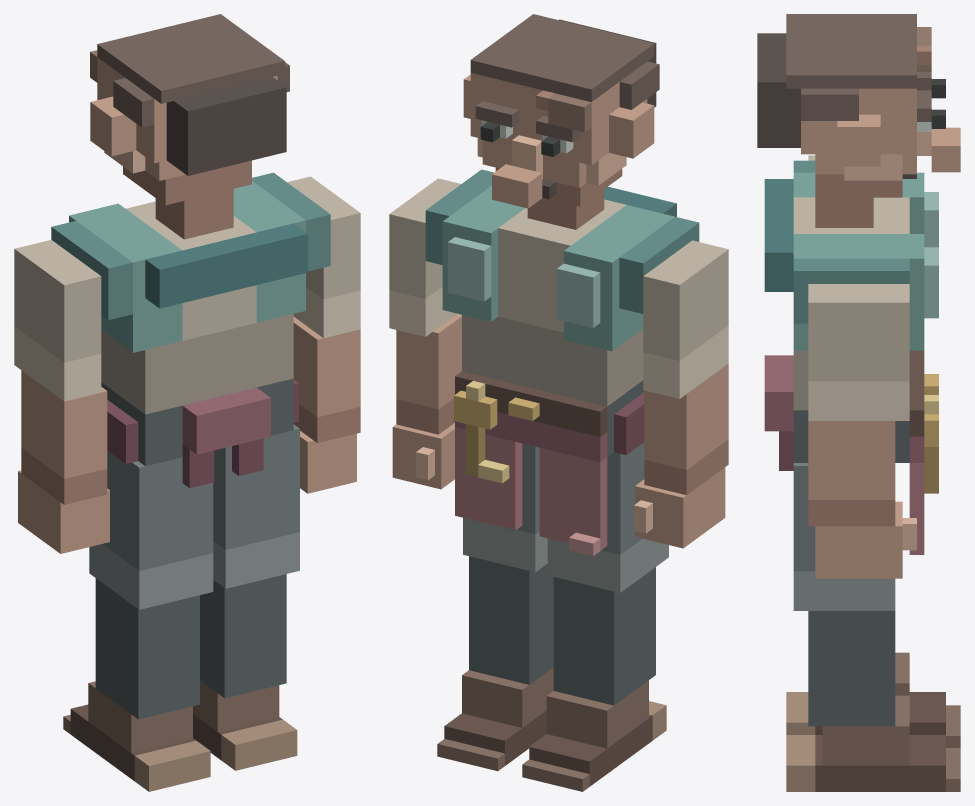
File: voxel_player_54px.glb
3 renders of one model, left to right at view 1: azimuth 30°, elevation 25°; view 2: azimuth 150°, elevation 25°; view 3: azimuth 270°, elevation 25°, orthographic. The views are drawn at different scales.
Visible parts, largest first — view 1: workshirt_lower, trouser_calf_right, trouser_thigh_right, trouser_calf_left, hair_nape, rolled_sleeve_right, cellar_vest_back_yoke, trouser_thigh_left, forearm_right, cellar_vest_front_right, hair_crown_right, forearm_left (+30 smaller); view 2: trouser_calf_right, workshirt_lower, trouser_calf_left, rolled_sleeve_right, workshirt_rib_center, cellar_vest_front_right, forearm_right, cellar_apron_right_panel, hair_crown_right, face_cranium, forearm_left, cellar_apron_left_panel (+41 smaller); view 3: trouser_calf_left, rolled_sleeve_left, forearm_left, hair_crown_left, cellar_vest_front_left, boot_sole_left, hand_left, face_cranium, hair_nape, sleeve_cuff_left, hair_crown_right, boot_vamp_left (+34 smaller).
Part boxes in pixels (bbox=[...]): workshirt_lower: bbox=[101, 314, 293, 414]; trouser_calf_right: bbox=[95, 578, 199, 719]; trouser_thigh_right: bbox=[102, 450, 213, 570]; trouser_calf_left: bbox=[200, 574, 286, 698]; hair_nape: bbox=[166, 77, 286, 175]; rolled_sleeve_right: bbox=[14, 239, 101, 362]; cellar_vest_back_yoke: bbox=[145, 223, 307, 308]; trouser_thigh_left: bbox=[213, 424, 299, 549]; forearm_right: bbox=[21, 370, 107, 478]; cellar_vest_front_right: bbox=[69, 203, 182, 352]; hair_crown_right: bbox=[97, 29, 222, 103]; forearm_left: bbox=[293, 317, 360, 417]; trouser_calf_right: bbox=[553, 567, 655, 705]; workshirt_lower: bbox=[462, 315, 643, 406]; trouser_calf_left: bbox=[469, 556, 553, 684]; rolled_sleeve_right: bbox=[643, 240, 728, 360]; workshirt_rib_center: bbox=[498, 199, 626, 332]; cellar_vest_front_right: bbox=[564, 205, 674, 351]; forearm_right: bbox=[644, 363, 728, 469]; cellar_apron_right_panel: bbox=[539, 448, 607, 550]; hair_crown_right: bbox=[531, 29, 654, 101]; face_cranium: bbox=[470, 73, 647, 165]; forearm_left: bbox=[396, 313, 461, 409]; cellar_apron_left_panel: bbox=[455, 427, 522, 530]; trouser_calf_left: bbox=[808, 611, 895, 726]; rolled_sleeve_left: bbox=[808, 284, 909, 381]; forearm_left: bbox=[808, 421, 895, 499]; hair_crown_left: bbox=[786, 44, 916, 88]; cellar_vest_front_left: bbox=[793, 234, 924, 350]; boot_sole_left: bbox=[815, 735, 945, 791]; hand_left: bbox=[815, 501, 902, 578]; face_cranium: bbox=[801, 88, 916, 154]; hair_nape: bbox=[757, 33, 800, 147]; sleeve_cuff_left: bbox=[808, 381, 909, 420]; hair_crown_right: bbox=[786, 14, 916, 44]; boot_vamp_left: bbox=[822, 695, 909, 765].
Size of the model in its own units: 0.75 by 1.69 by 0.4375.
